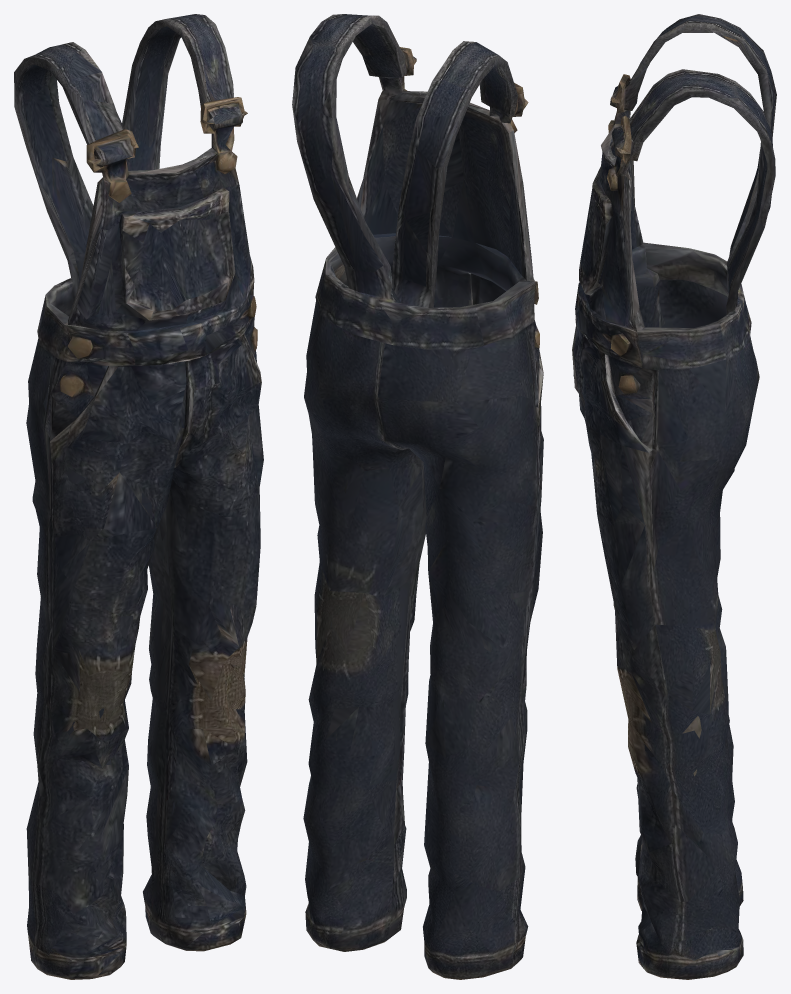
File: overalls.glb
The picture shows the model from 3 angles, left to right: view 1: azimuth 30°, elevation 25°; view 2: azimuth 150°, elevation 25°; view 3: azimuth 270°, elevation 25°; orthographic projection. The views are drawn at different scales.
Parts seen in each view (by area): view 1: overalls; view 2: overalls; view 3: overalls.
Part boxes in pixels (x1,y1,x2,y2): overalls: (14, 14, 263, 979); overalls: (292, 14, 543, 979); overalls: (572, 14, 776, 979).
Size of the model in its own units: 0.3406 by 1.4 by 0.2933.
Materials: 1 (1 with a texture image).
